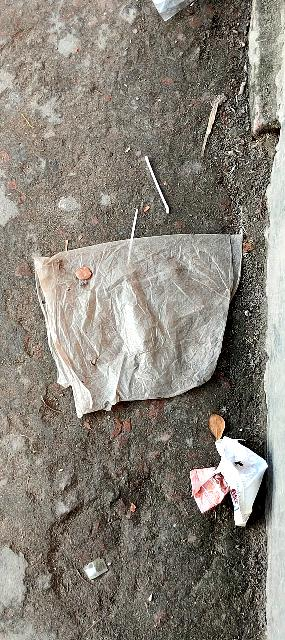polythene: (28, 206, 285, 430)
